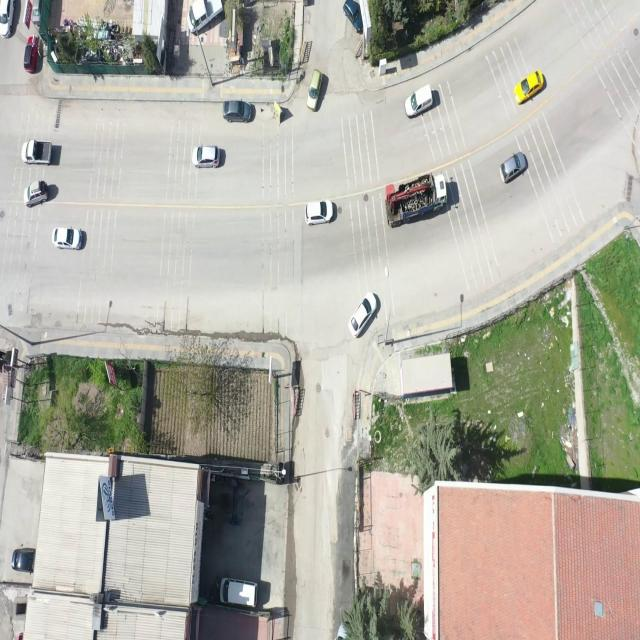p3rson: (216, 576, 219, 599)
